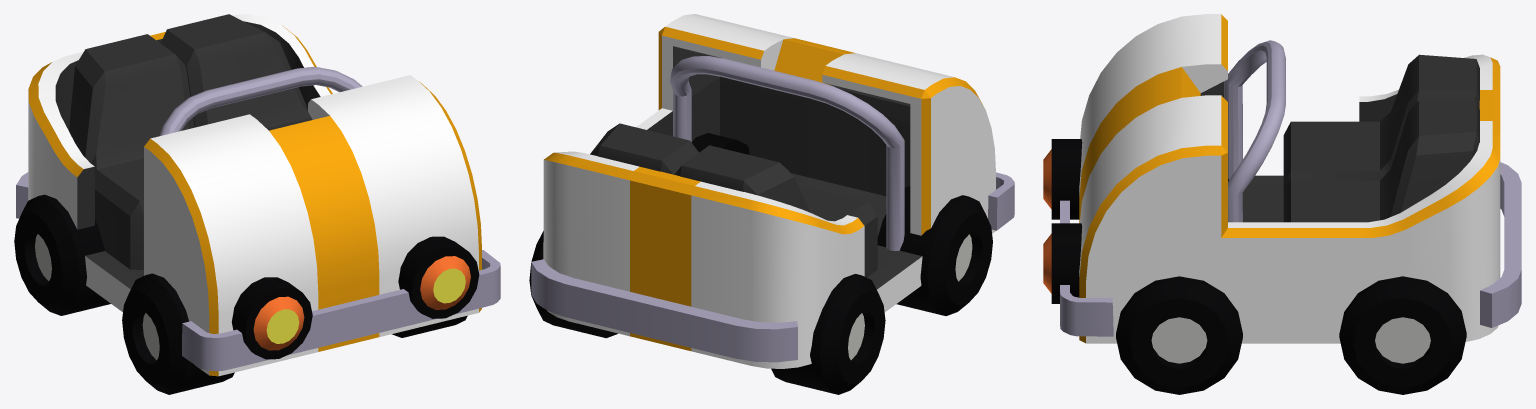
File: cart.glb
3 views of the same model, side by side, from view 1: azimuth 30°, elevation 25°; view 2: azimuth 150°, elevation 25°; view 3: azimuth 270°, elevation 25° (orthographic). The views are drawn at different scales.
Parts seen in each view (by area): view 1: Cube.049_Material.001_0; view 2: Cube.049_Material.001_0; view 3: Cube.049_Material.001_0.
Part boxes in pixels (box(x1,y1,x2,y2)): Cube.049_Material.001_0: box(14, 14, 500, 394); Cube.049_Material.001_0: box(529, 14, 1014, 394); Cube.049_Material.001_0: box(1043, 14, 1521, 394).
Size of the model in its own units: 2.81 by 2.1 by 3.63.
Materials: 1 (1 with a texture image).
